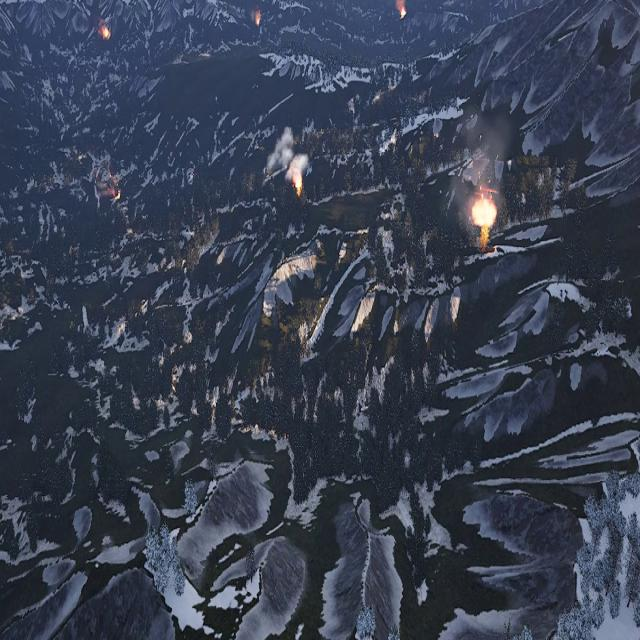fire: (470, 197, 496, 230), (106, 174, 122, 201), (292, 170, 302, 194), (398, 1, 406, 18), (101, 27, 111, 40), (254, 10, 260, 24)
smoke: (450, 108, 521, 230), (264, 130, 310, 180)
